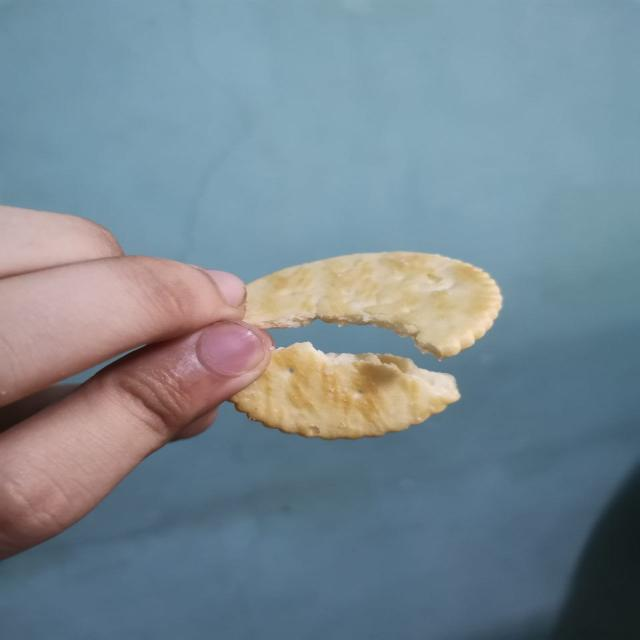broken biscuit: (240, 249, 503, 359), (226, 340, 462, 440)
